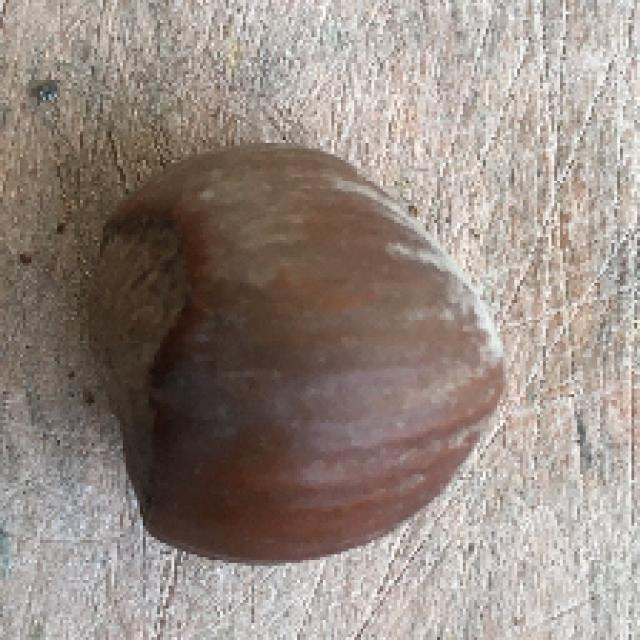damagedHazelnut: (84, 143, 510, 570)
